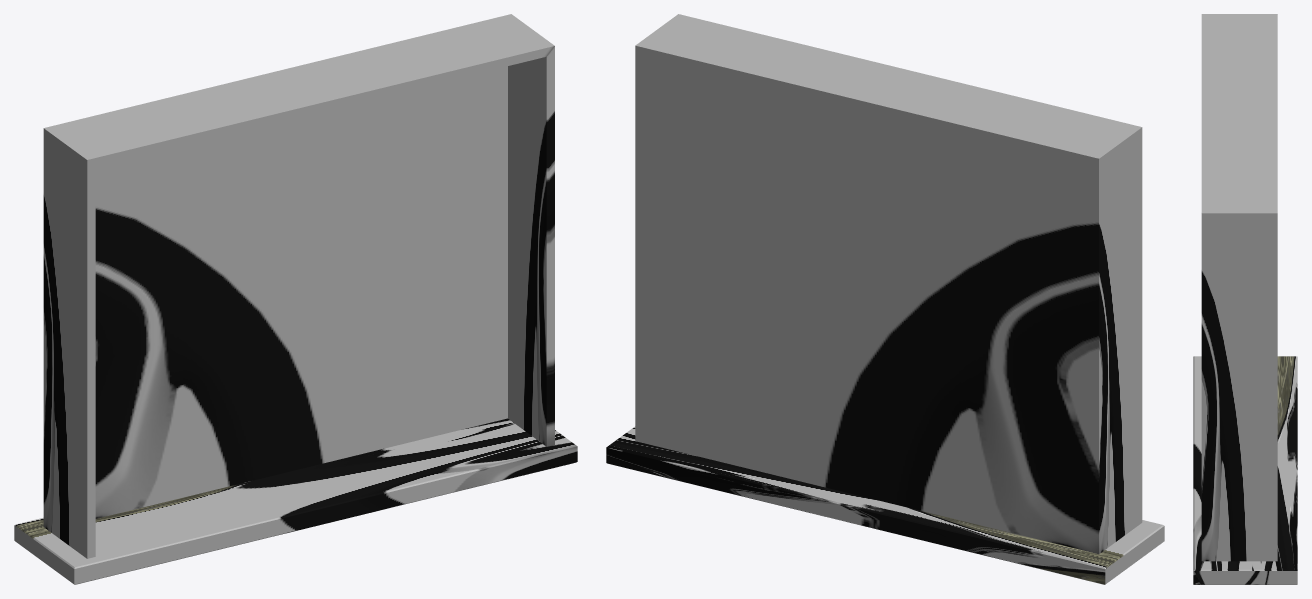
The model's file is Drawer_N.obj.
3 views of the same model, side by side, from view 1: azimuth 30°, elevation 25°; view 2: azimuth 150°, elevation 25°; view 3: azimuth 270°, elevation 25° (orthographic). The views are drawn at different scales.
Bounding box in the file's own units: 0.762 × 0.6044 × 0.1572.
